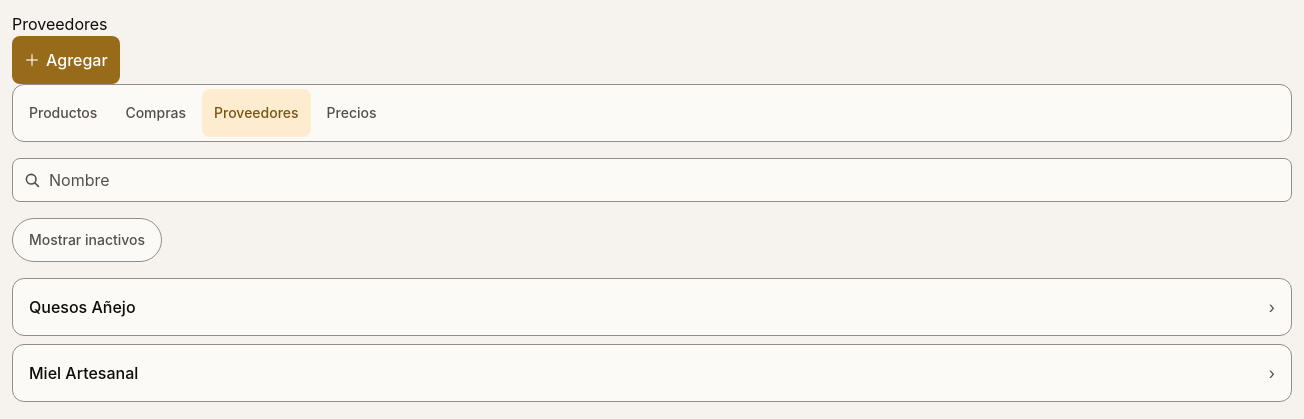
Test: Proveedores › la búsqueda filtra por nombre ignorando acentos
Type "anejo" into the search field named "Buscar proveedor". click: (652, 180)
box: [12,158,1292,202]
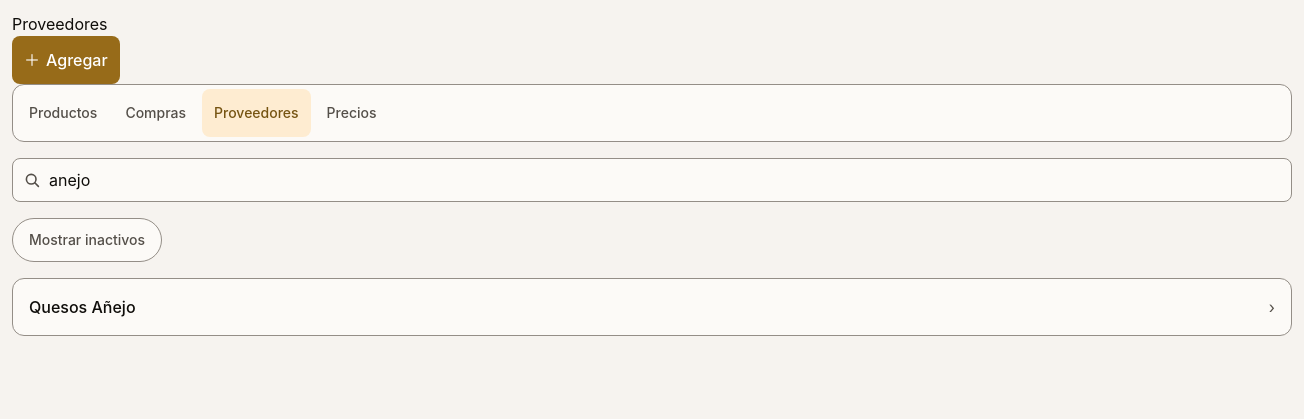
Check: the text "Quesos Añejo" is shown, box [29,295,136,319]
Check: the button "Miel Artesanal" is gone
